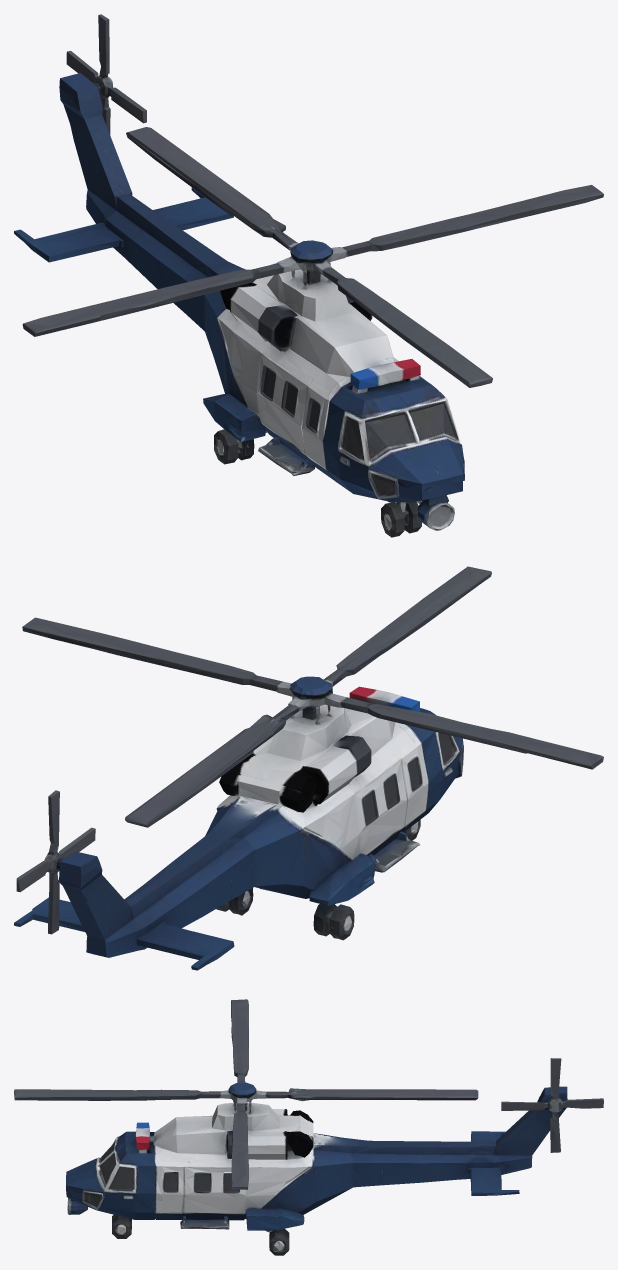
Rendered from helicopter.glb.
The picture shows the model from 3 angles, top to bottom: view 1: azimuth 30°, elevation 25°; view 2: azimuth 150°, elevation 25°; view 3: azimuth 270°, elevation 25°; orthographic projection. The views are drawn at different scales.
Parts seen in each view (by area): view 1: geometry_0; view 2: geometry_0; view 3: geometry_0.
Part boxes in pixels (x1,y1,x2,y2): geometry_0: [14, 14, 603, 537]; geometry_0: [14, 566, 603, 970]; geometry_0: [14, 999, 603, 1255].
Size of the model in its own units: 0.7506 by 0.3448 by 1.
1 material, 1 textured.
